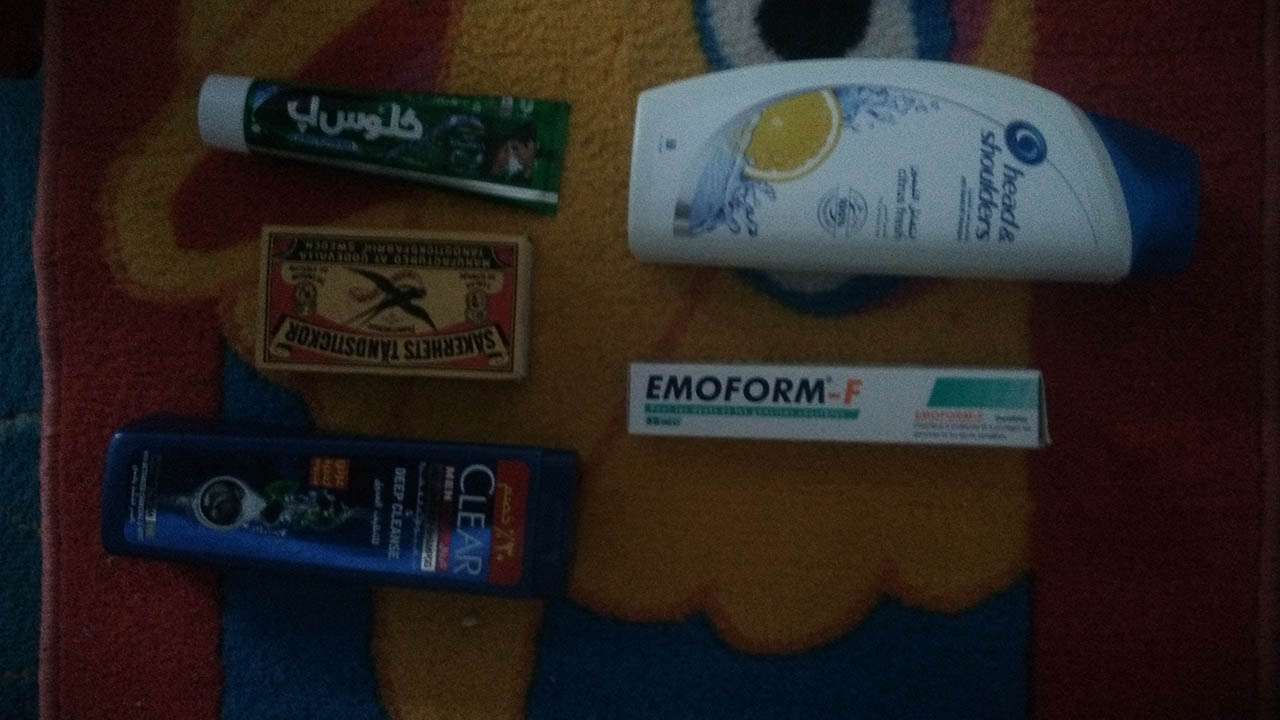Shampoo-Clear 4.7$: (103, 397, 588, 615)
Toothpaste-Closeup 3.04$: (203, 61, 566, 211)
Toothpaste-F 1.5$: (620, 361, 1058, 466)
match-sticks .90$: (252, 230, 559, 385)
shampoo-Lemon 3.5$: (624, 52, 1234, 277)
